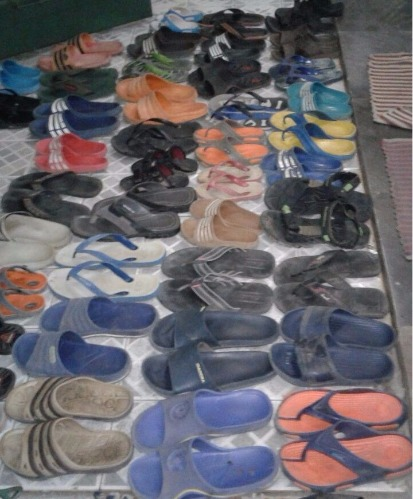sandal: (267, 388, 410, 484), (3, 375, 135, 475), (162, 227, 275, 320), (278, 238, 392, 322), (51, 228, 160, 306), (263, 100, 361, 167)
